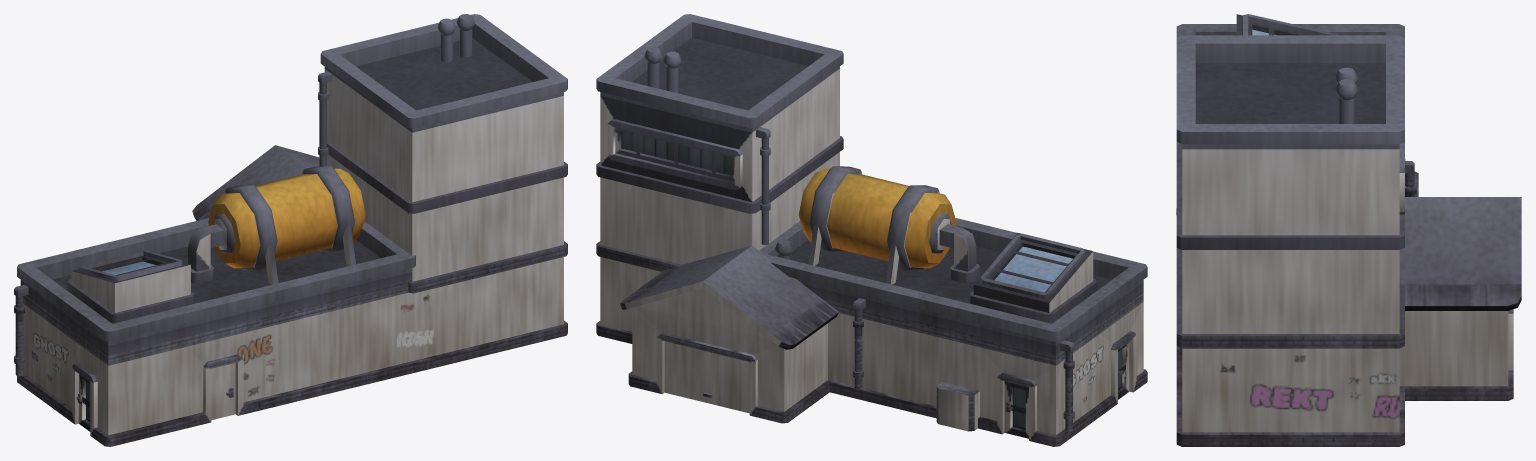
The model's file is building-r-white-scuffed.glb.
The picture shows the model from 3 angles, left to right: view 1: azimuth 30°, elevation 25°; view 2: azimuth 150°, elevation 25°; view 3: azimuth 270°, elevation 25°; orthographic projection. The views are drawn at different scales.
Visible parts, largest first — view 1: building-r; view 2: building-r; view 3: building-r.
Part boxes in pixels (x1,y1,x2,y2): building-r: (14, 14, 567, 446); building-r: (596, 14, 1147, 446); building-r: (1176, 14, 1521, 446).
Size of the model in its own units: 2.48 by 1.39 by 1.27.
Materials: 1 (1 with a texture image).
